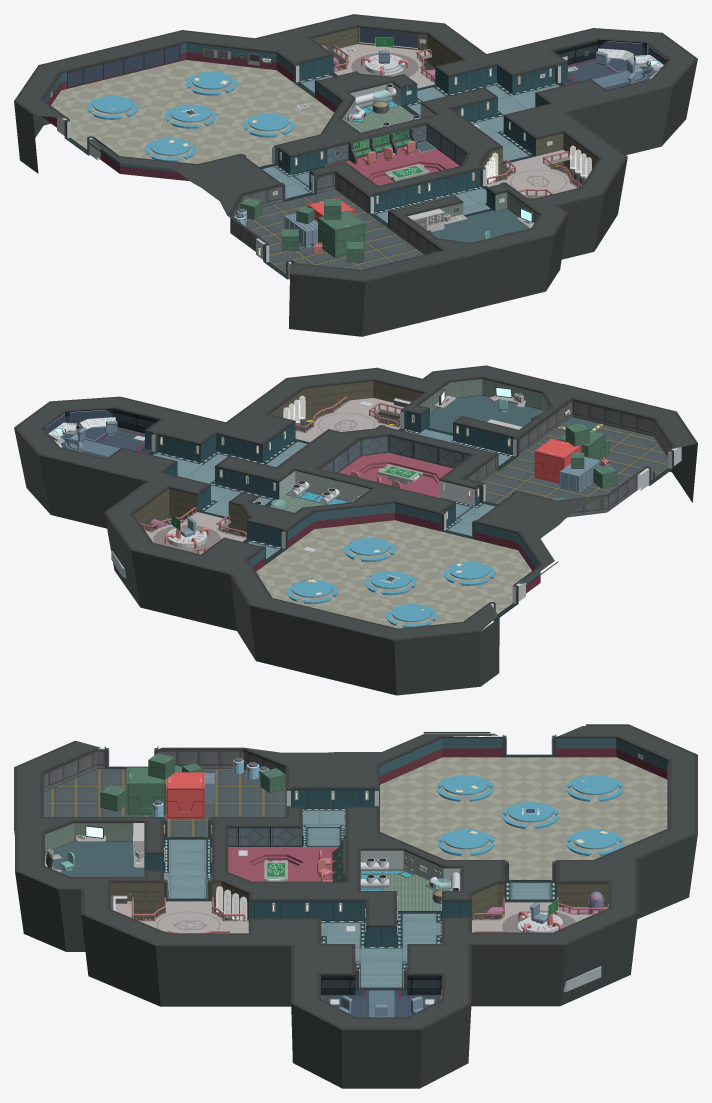
Rendered from AmongUS.fbx.
3 renders of one model, top to bottom at view 1: azimuth 30°, elevation 25°; view 2: azimuth 150°, elevation 25°; view 3: azimuth 270°, elevation 25°, orthographic. The views are drawn at different scales.
Parts seen in each view (by area): view 1: Object_6, Object_178, Object_87, Object_143, Object_177, Object_64, Object_139, Object_107, Object_141, Object_39, Object_137, Object_27 (+26 smaller); view 2: Object_6, Object_178, Object_87, Object_143, Object_177, Object_141, Object_64, Object_139, Object_137, Object_39, Object_145, Object_176 (+20 smaller); view 3: Object_6, Object_178, Object_87, Object_177, Object_64, Object_143, Object_139, Object_141, Object_157, Object_39, Object_137, Object_165 (+24 smaller).
Part boxes in pixels (box(x1,y1,x2,y2)): Object_6: box(14, 15, 697, 336); Object_178: box(51, 60, 334, 166); Object_87: box(14, 14, 697, 281); Object_143: box(278, 56, 567, 211); Object_177: box(246, 189, 423, 273); Object_64: box(87, 71, 294, 161); Object_139: box(42, 43, 341, 181); Object_107: box(68, 27, 666, 114); Object_141: box(312, 27, 598, 179); Object_39: box(334, 44, 576, 195); Object_137: box(230, 173, 440, 262); Object_27: box(240, 201, 365, 262); Object_6: box(14, 367, 697, 695); Object_178: box(256, 520, 531, 628); Object_87: box(14, 365, 697, 640); Object_143: box(145, 409, 649, 620); Object_177: box(483, 424, 667, 504); Object_141: box(134, 381, 423, 536); Object_64: box(286, 538, 495, 627); Object_139: box(249, 503, 540, 593); Object_137: box(466, 400, 672, 517); Object_39: box(145, 398, 403, 553); Object_145: box(428, 395, 599, 433); Object_176: box(321, 436, 470, 472); Object_6: box(14, 724, 697, 1088); Object_178: box(380, 757, 667, 879); Object_87: box(14, 724, 697, 1029); Object_177: box(44, 769, 285, 836); Object_64: box(436, 775, 623, 856); Object_143: box(144, 789, 471, 946); Object_139: box(380, 738, 667, 784); Object_141: box(111, 882, 608, 920); Object_157: box(321, 913, 441, 987); Object_39: box(115, 901, 591, 933); Object_137: box(44, 750, 285, 792); Object_165: box(228, 847, 338, 881).
Bounding box in the file's own units: 523 × 73.38 × 495.
Materials: 75 (32 with a texture image).
